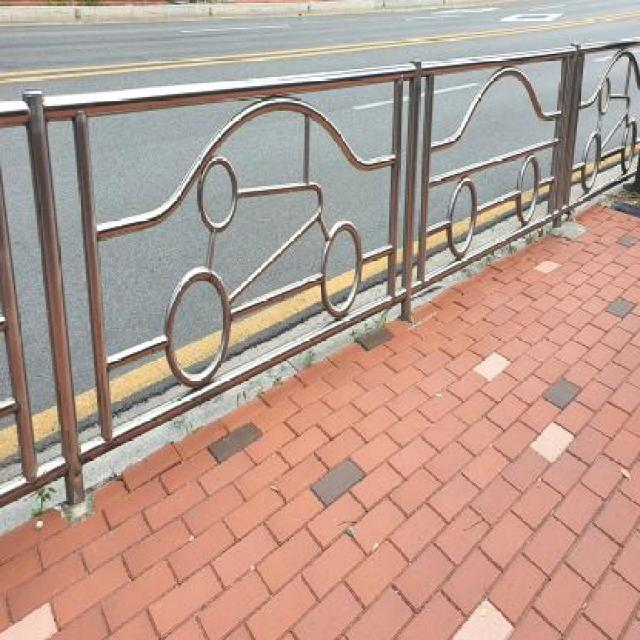fence: (7, 46, 433, 496), (376, 22, 640, 304)
